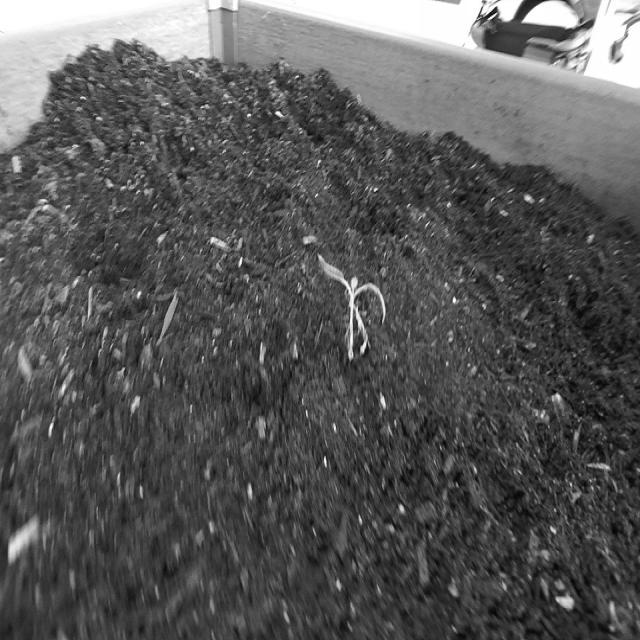Unhealthy: (316, 249, 387, 362)
